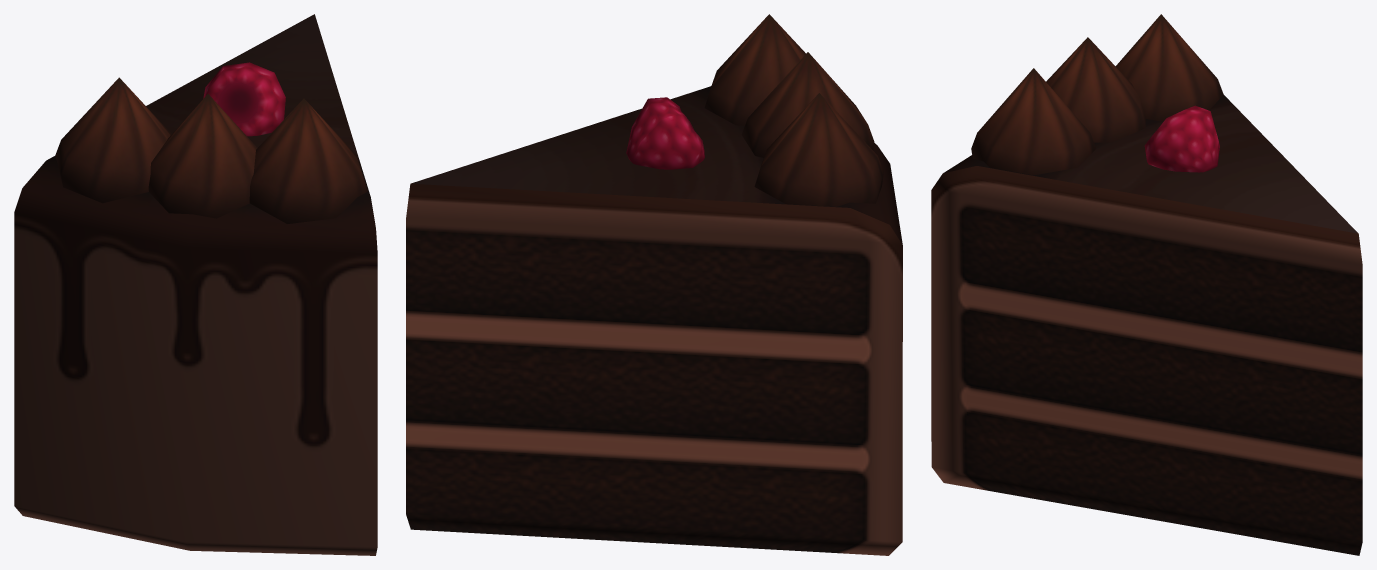
File: 008-Cake06.FBX
The picture shows the model from 3 angles, left to right: view 1: azimuth 30°, elevation 25°; view 2: azimuth 150°, elevation 25°; view 3: azimuth 270°, elevation 25°; orthographic projection. The views are drawn at different scales.
Parts seen in each view (by area): view 1: 008-Cake06; view 2: 008-Cake06; view 3: 008-Cake06.
Boxes of the visible parts, box(x1,y1,x2,y2) form: 008-Cake06: box(14, 14, 377, 555); 008-Cake06: box(406, 14, 902, 555); 008-Cake06: box(931, 14, 1362, 555).
Size of the model in its own units: 15.16 by 15.67 by 15.16.
